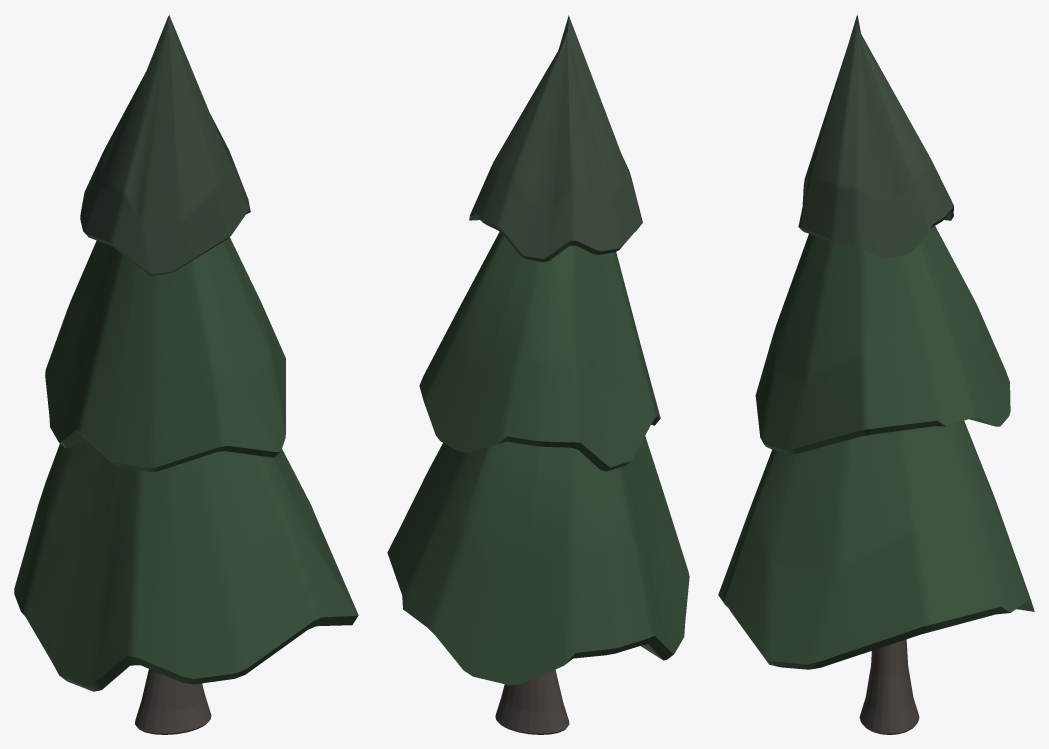
Rendered from Tree.fbx.
The picture shows the model from 3 angles, left to right: view 1: azimuth 30°, elevation 25°; view 2: azimuth 150°, elevation 25°; view 3: azimuth 270°, elevation 25°; orthographic projection. The views are drawn at different scales.
Visible parts, largest first — view 1: pasted__pCylinder9; view 2: pasted__pCylinder9; view 3: pasted__pCylinder9.
Boxes of the visible parts, <box> form: pasted__pCylinder9: <box>14,15,358,734</box>; pasted__pCylinder9: <box>387,15,689,734</box>; pasted__pCylinder9: <box>718,14,1034,734</box>.
Size of the model in its own units: 29.56 by 76.66 by 31.64.
